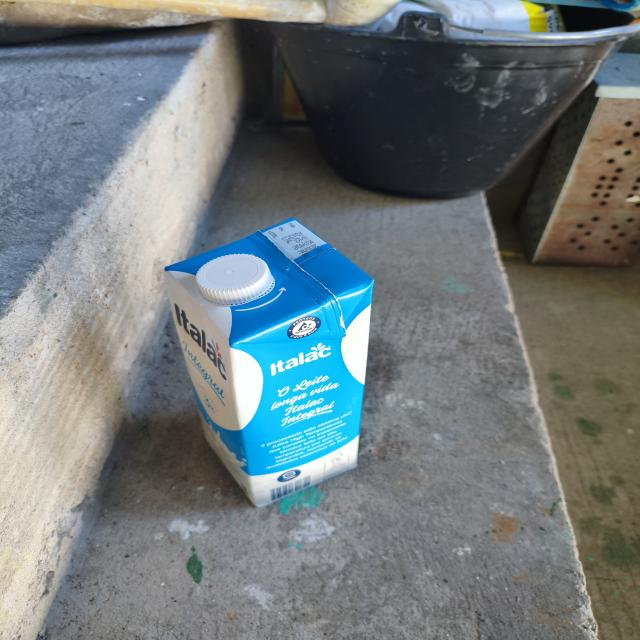Caixa de Leite: (141, 211, 384, 514)
